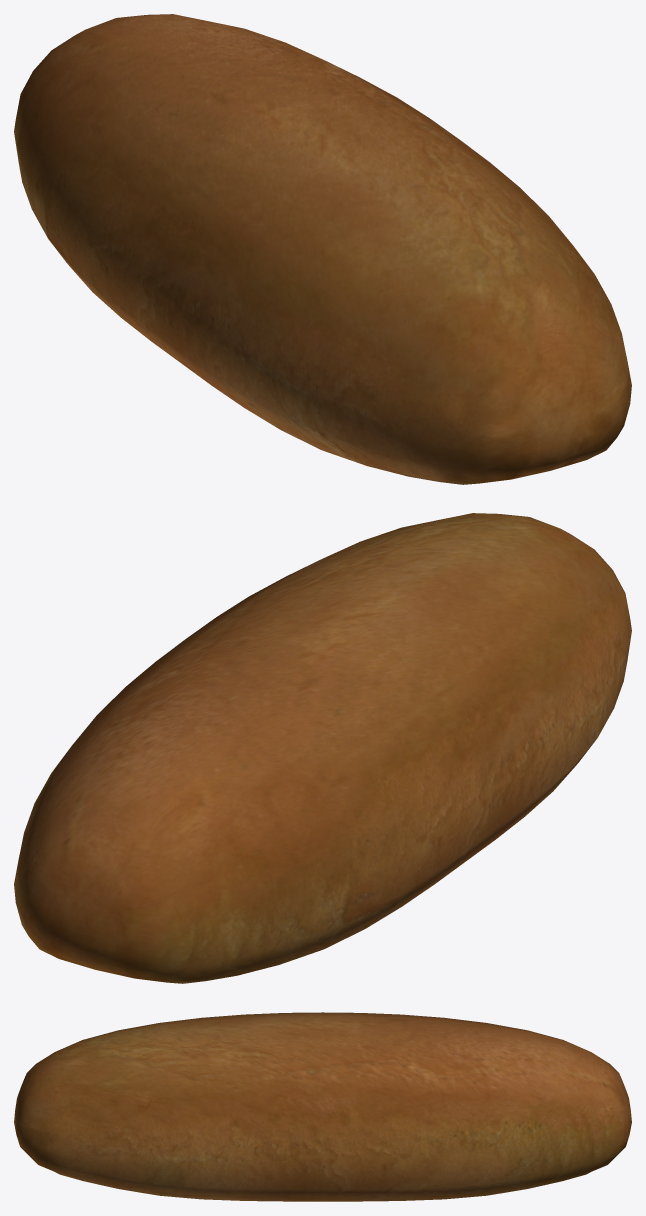
The model's file is Tam.fbx.
The picture shows the model from 3 angles, top to bottom: view 1: azimuth 30°, elevation 25°; view 2: azimuth 150°, elevation 25°; view 3: azimuth 270°, elevation 25°; orthographic projection. The views are drawn at different scales.
Parts seen in each view (by area): view 1: uploads_files_261281_bread.001; view 2: uploads_files_261281_bread.001; view 3: uploads_files_261281_bread.001.
Part boxes in pixels (bbox=[...]): uploads_files_261281_bread.001: bbox=[14, 14, 631, 484]; uploads_files_261281_bread.001: bbox=[14, 513, 631, 983]; uploads_files_261281_bread.001: bbox=[14, 1012, 631, 1201].
Size of the model in its own units: 785 by 472 by 1928.
